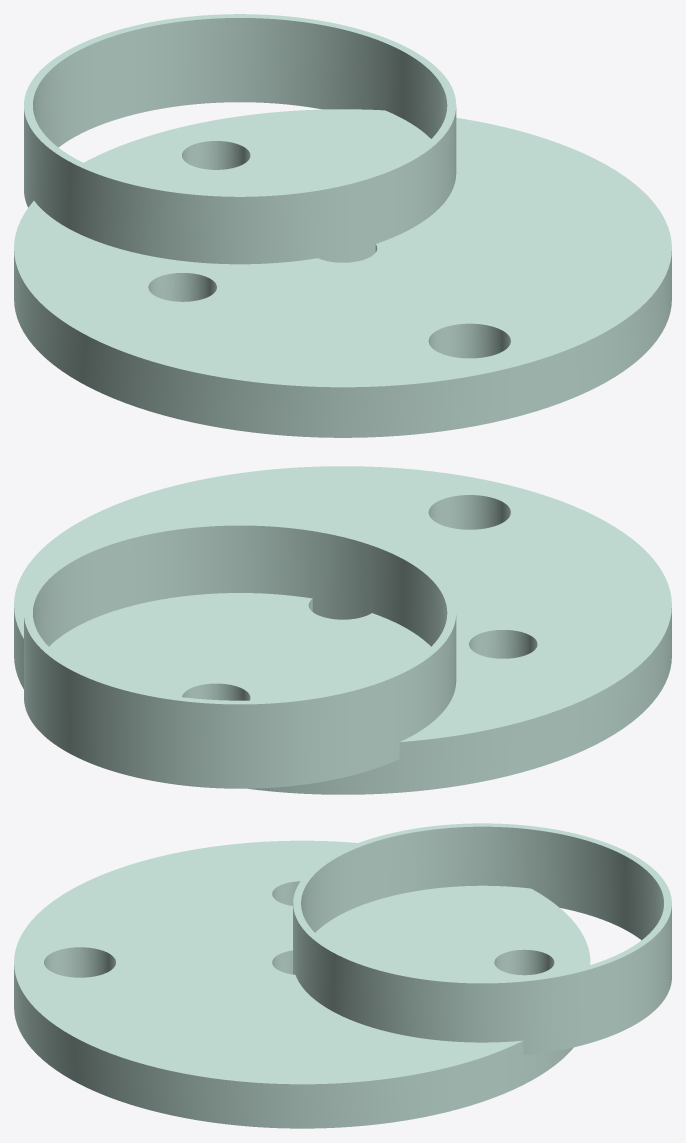
The picture shows the model from 3 angles, top to bottom: view 1: azimuth 30°, elevation 25°; view 2: azimuth 150°, elevation 25°; view 3: azimuth 270°, elevation 25°; orthographic projection. The views are drawn at different scales.
Visible parts, largest first — view 1: Renderer Node; view 2: Renderer Node; view 3: Renderer Node.
Part boxes in pixels (x1=…): Renderer Node: x1=14, y1=14, x2=671, y2=437; Renderer Node: x1=14, y1=466, x2=671, y2=794; Renderer Node: x1=14, y1=823, x2=671, y2=1128.
Size of the model in its own units: 0.5525 by 0.1094 by 0.6308.
